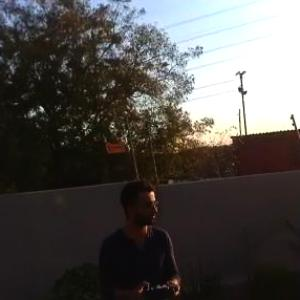follow: (95, 170, 191, 299)
